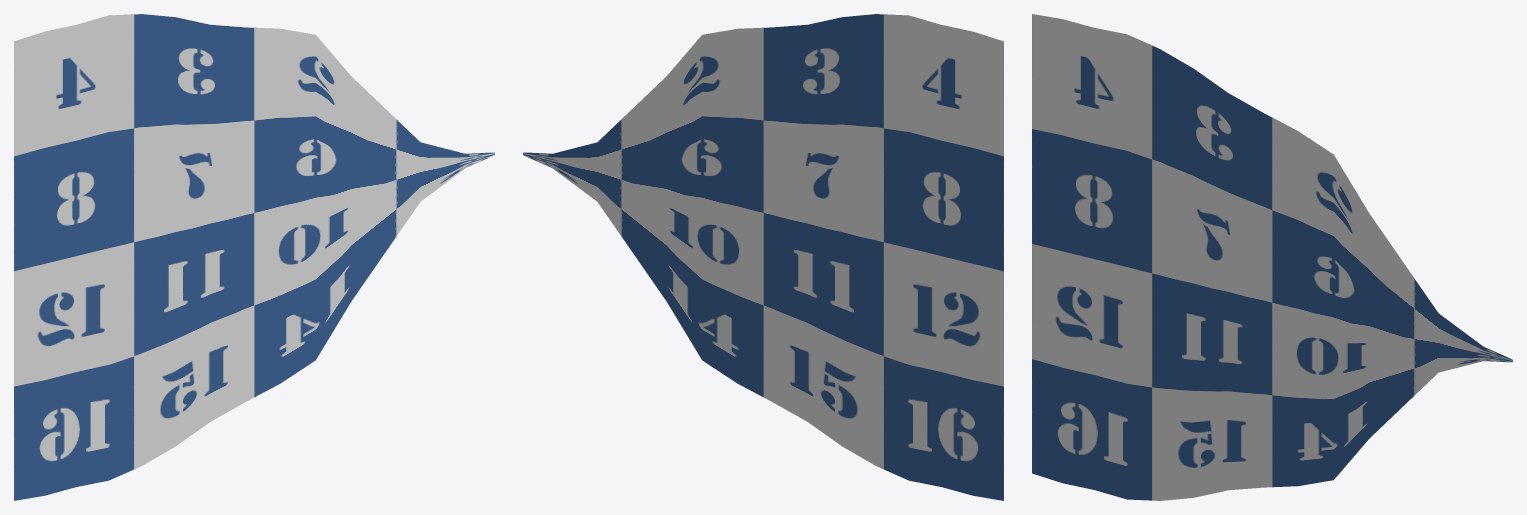
File: Hi_BreathFire.fbx
The picture shows the model from 3 angles, left to right: view 1: azimuth 30°, elevation 25°; view 2: azimuth 150°, elevation 25°; view 3: azimuth 330°, elevation 25°; orthographic projection.
Parts seen in each view (by area): view 1: SM_e_Plc_P0001_C11_BreathFire001; view 2: SM_e_Plc_P0001_C11_BreathFire001; view 3: SM_e_Plc_P0001_C11_BreathFire001.
Boxes of the visible parts, <box> form: SM_e_Plc_P0001_C11_BreathFire001: <box>14,14,494,500</box>; SM_e_Plc_P0001_C11_BreathFire001: <box>523,14,1003,500</box>; SM_e_Plc_P0001_C11_BreathFire001: <box>1032,14,1512,500</box>.
Size of the model in its own units: 60 by 55.47 by 6.94e-15.
